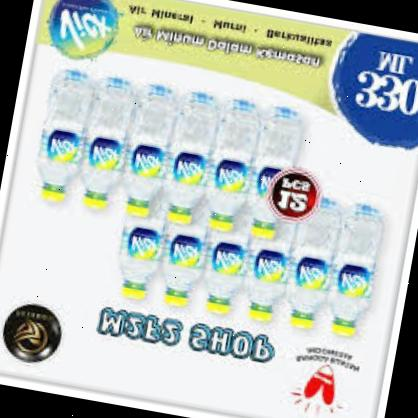bottle: (63, 67, 147, 220), (113, 68, 194, 226), (239, 107, 316, 247), (324, 202, 402, 340), (26, 68, 102, 206), (282, 197, 356, 334), (158, 97, 220, 236), (202, 110, 266, 237), (238, 211, 309, 324), (111, 208, 176, 304), (154, 223, 219, 314), (200, 224, 253, 315)
cap: (77, 188, 113, 216), (158, 284, 192, 312), (119, 196, 154, 221), (160, 206, 198, 227), (246, 219, 277, 243), (326, 317, 360, 338), (248, 302, 278, 322), (286, 310, 316, 330), (118, 282, 146, 303), (209, 213, 236, 234), (210, 296, 234, 317), (40, 184, 68, 202)
label: (39, 125, 92, 167), (164, 232, 212, 269), (120, 225, 164, 265), (84, 136, 132, 171), (251, 250, 293, 285), (294, 257, 333, 294), (126, 145, 168, 176), (210, 243, 248, 276), (171, 158, 211, 188), (214, 162, 246, 192)
